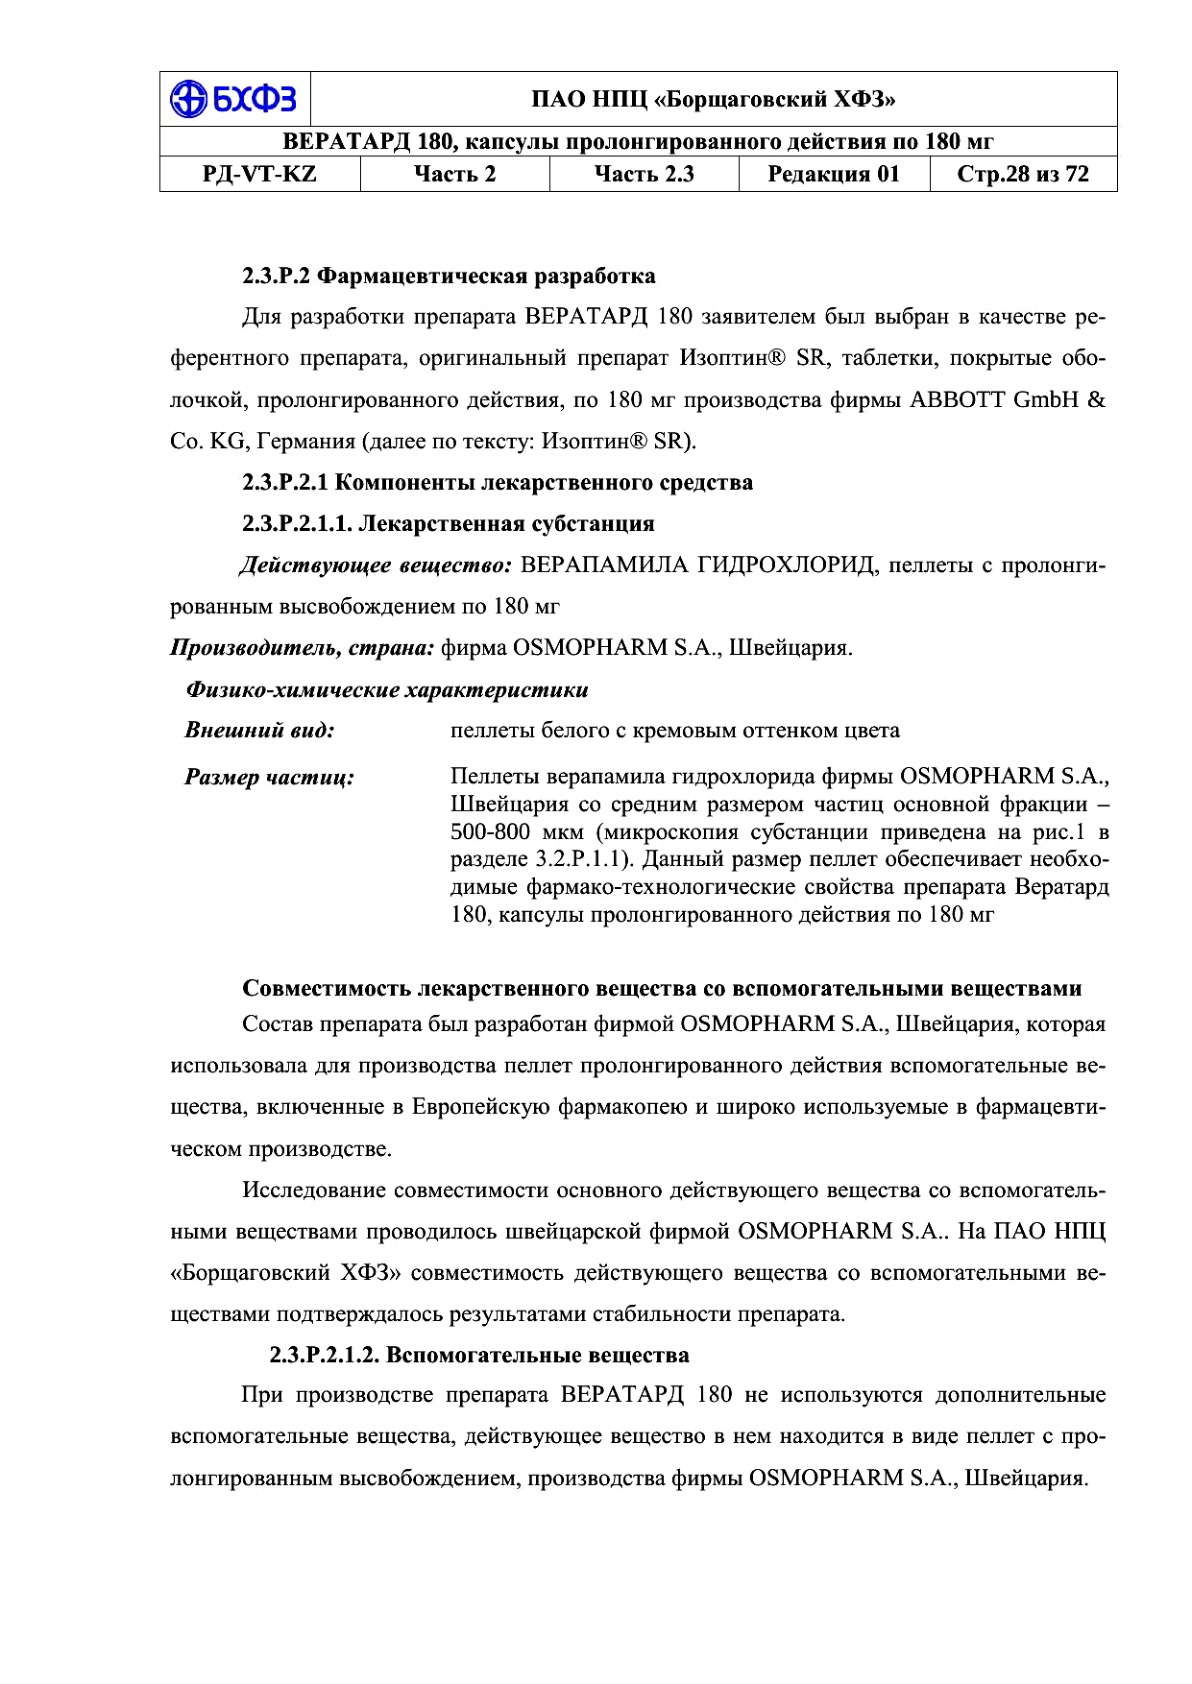full_lined: (157, 70, 1118, 193)
